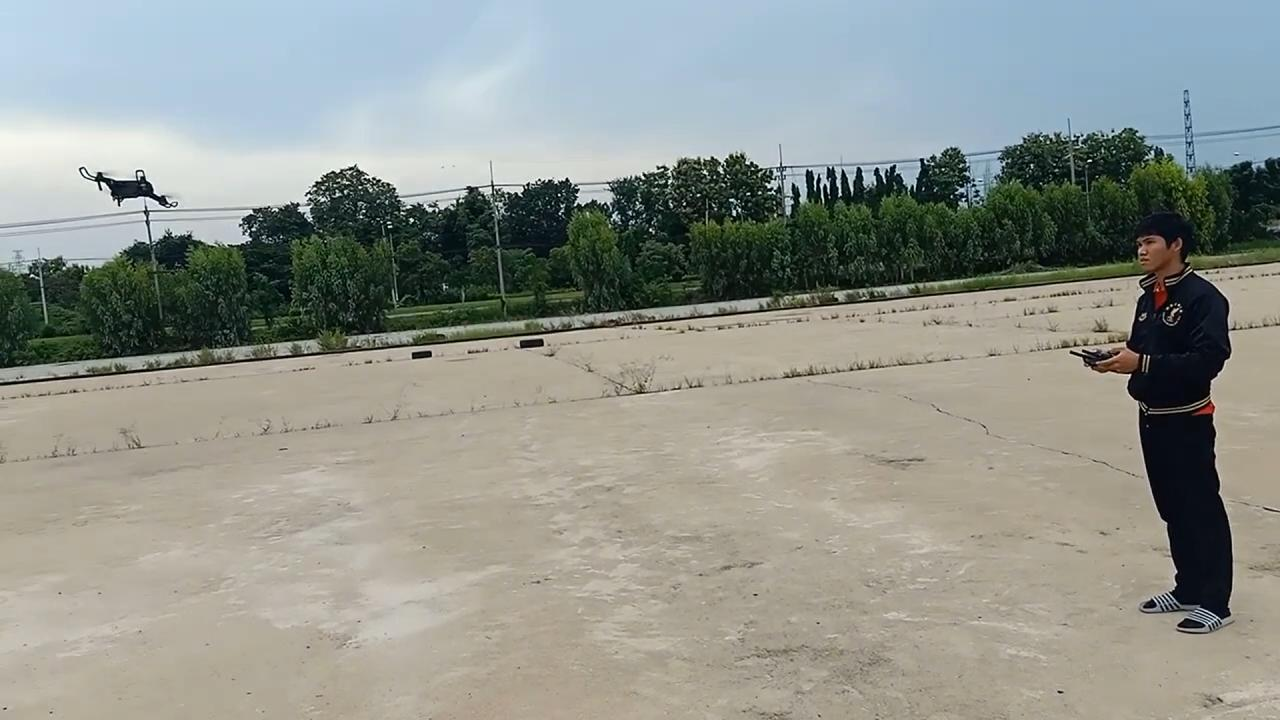Drone: (63, 154, 190, 226)
